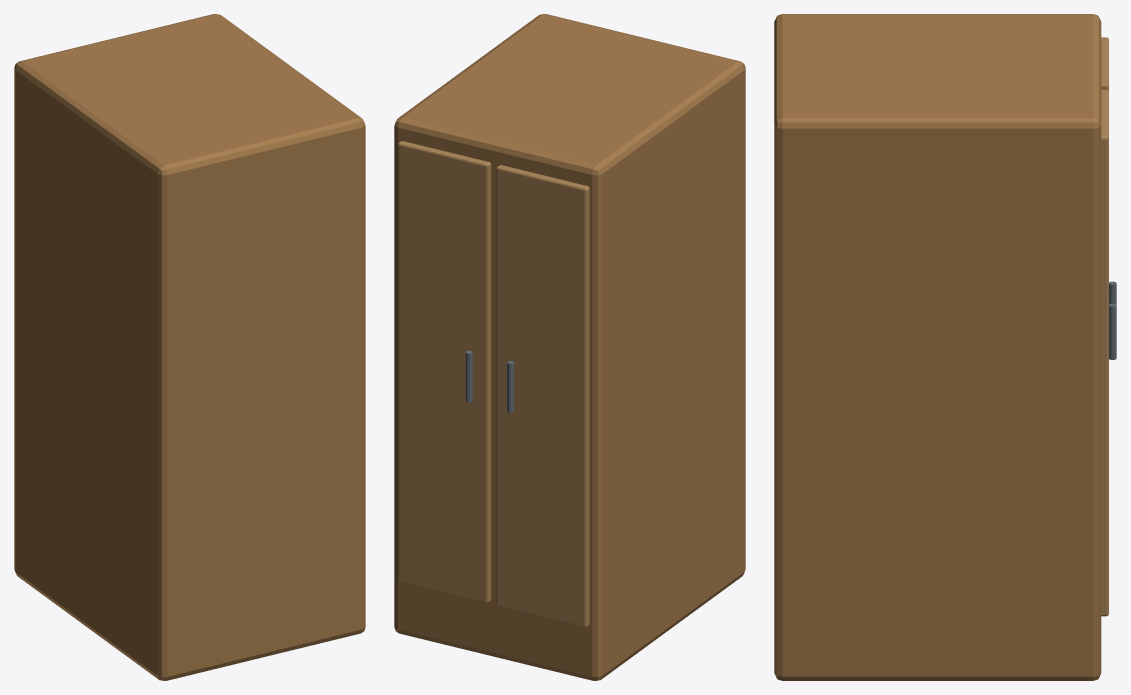
The model's file is wardrobe.glb.
3 renders of one model, left to right at view 1: azimuth 30°, elevation 25°; view 2: azimuth 150°, elevation 25°; view 3: azimuth 270°, elevation 25°, orthographic. The views are drawn at different scales.
Parts seen in each view (by area): view 1: interior-apt-wood--1; view 2: interior-apt-wood--1, interior-apt-wood2--1, interior-apt-metal--1; view 3: interior-apt-wood--1, interior-apt-wood2--1, interior-apt-metal--1.
Boxes of the visible parts, x1,y1,x2,y2 form: interior-apt-wood--1: (14, 14, 365, 680); interior-apt-wood--1: (394, 14, 745, 680); interior-apt-wood2--1: (398, 141, 589, 627); interior-apt-metal--1: (465, 350, 514, 412); interior-apt-wood--1: (774, 14, 1101, 680); interior-apt-wood2--1: (1101, 37, 1108, 616); interior-apt-metal--1: (1109, 281, 1116, 359).
Size of the model in its own units: 0.8 by 1.9 by 1.05.
